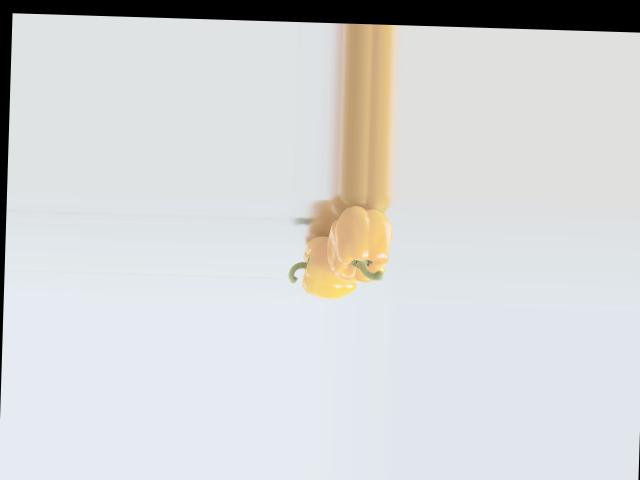bell_pepper: (288, 224, 361, 300)
